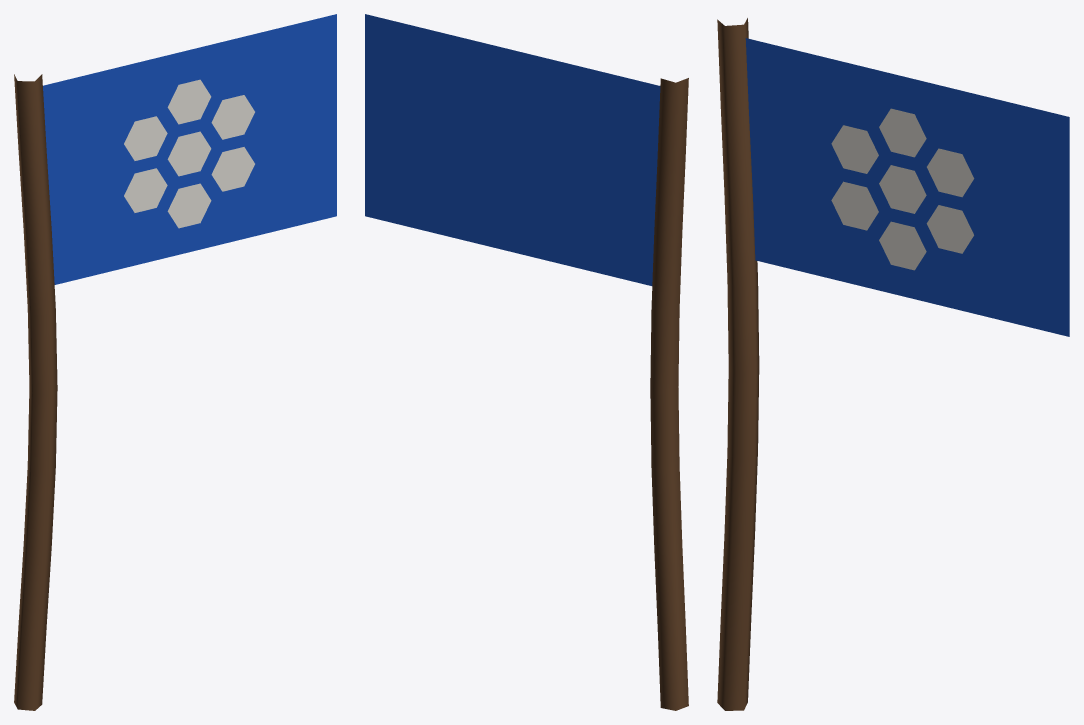
The model's file is flag_nuee.glb.
3 renders of one model, left to right at view 1: azimuth 30°, elevation 25°; view 2: azimuth 150°, elevation 25°; view 3: azimuth 330°, elevation 25°, orthographic. The views are drawn at different scales.
Visible parts, largest first — view 1: flag_nuee; view 2: flag_nuee; view 3: flag_nuee.
Part boxes in pixels (x1,y1,x2,y2): flag_nuee: [14, 14, 336, 710]; flag_nuee: [365, 14, 688, 710]; flag_nuee: [717, 18, 1069, 710].
Size of the model in its own units: 7.49 by 14.03 by 0.6427.
